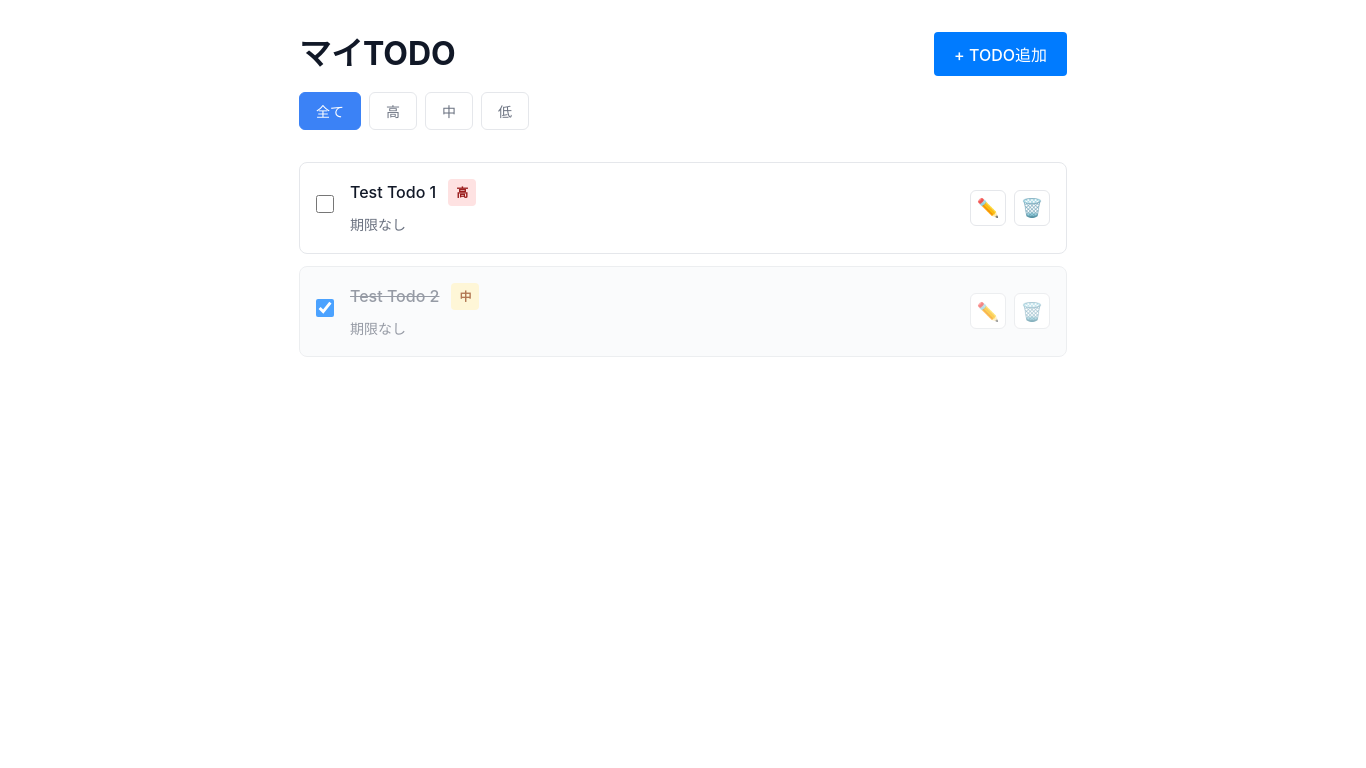
Test: TodoList › Modal operations › displays create title when creating new todo
This screenshot has width=1366, height=768.
Click the button "+ TODO追加": (1000,54) [934,32,1067,76]
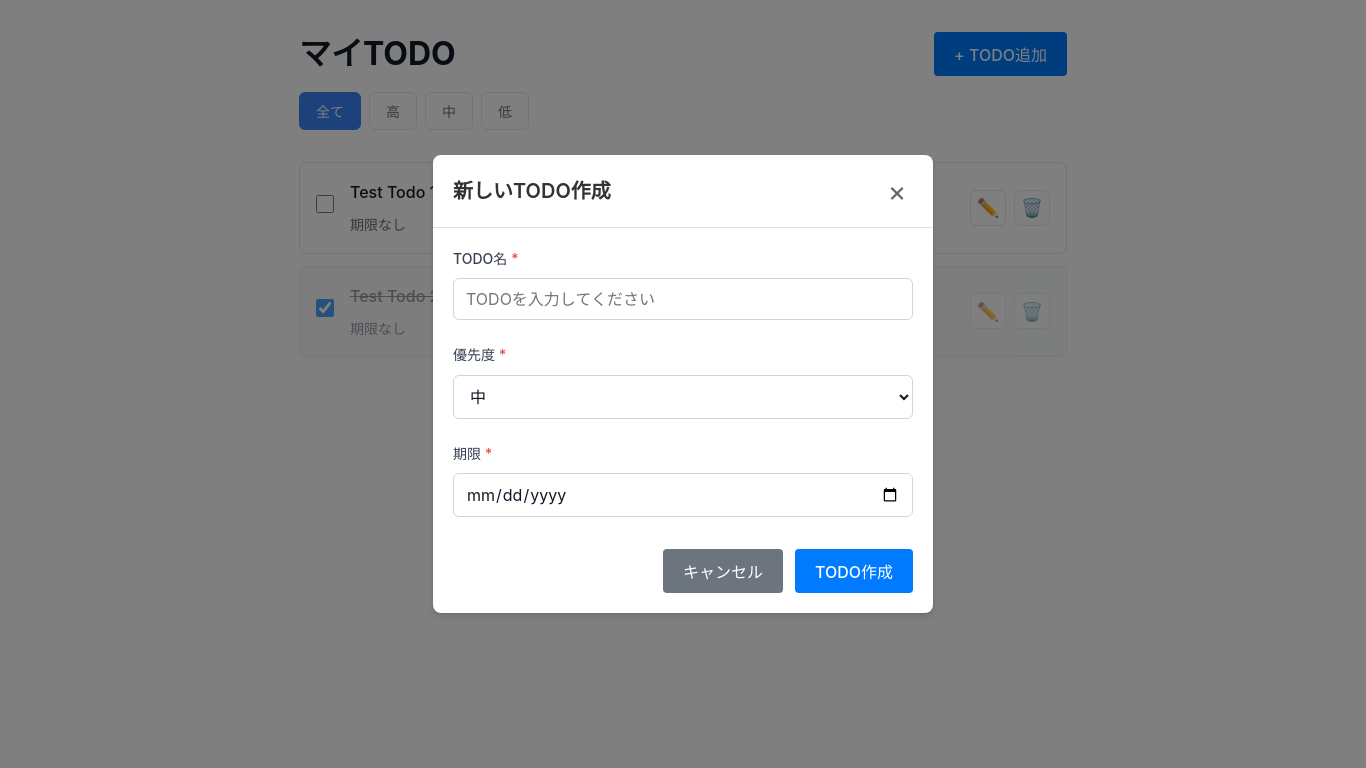
Expected: the heading "新しいTODO作成" is shown, [453,179,611,203]
